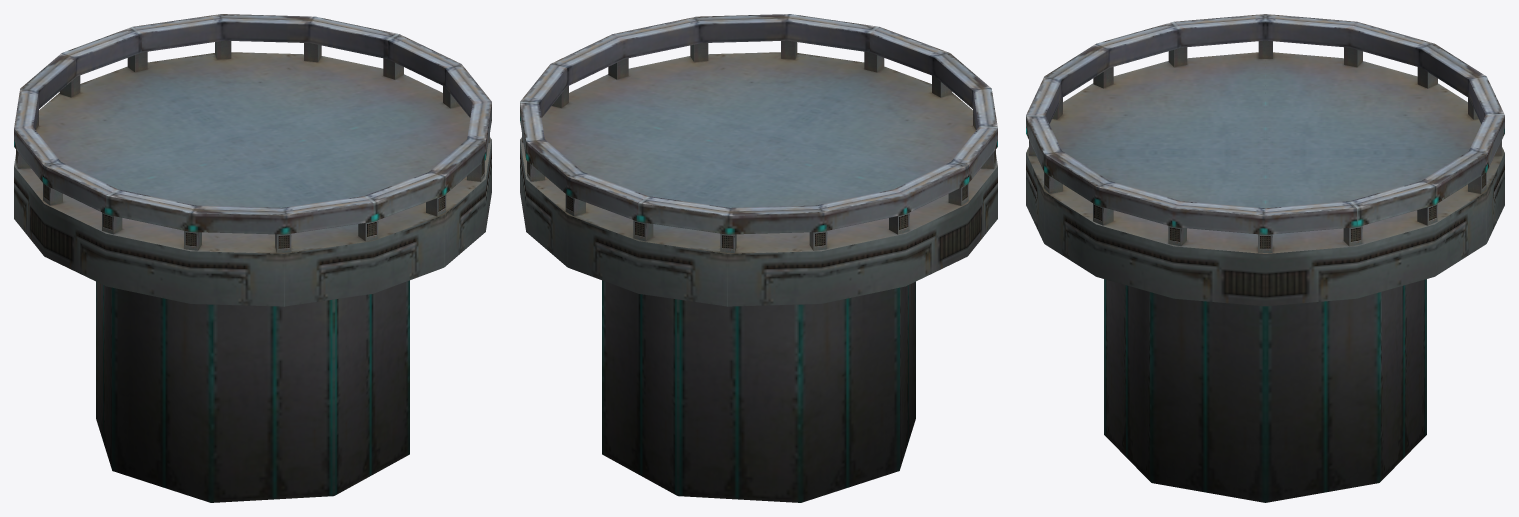
The model's file is yw_gonghuilingdi_jianzhu07.FBX.
3 views of the same model, side by side, from view 1: azimuth 30°, elevation 25°; view 2: azimuth 150°, elevation 25°; view 3: azimuth 270°, elevation 25° (orthographic).
Visible parts, largest first — view 1: yw_gonghuilingdi_jianzhu07; view 2: yw_gonghuilingdi_jianzhu07; view 3: yw_gonghuilingdi_jianzhu07.
Boxes of the visible parts, box(x1,y1,x2,y2) form: yw_gonghuilingdi_jianzhu07: box(14, 14, 491, 502); yw_gonghuilingdi_jianzhu07: box(520, 14, 997, 502); yw_gonghuilingdi_jianzhu07: box(1026, 14, 1504, 502).
Size of the model in its own units: 490 by 361 by 490.
